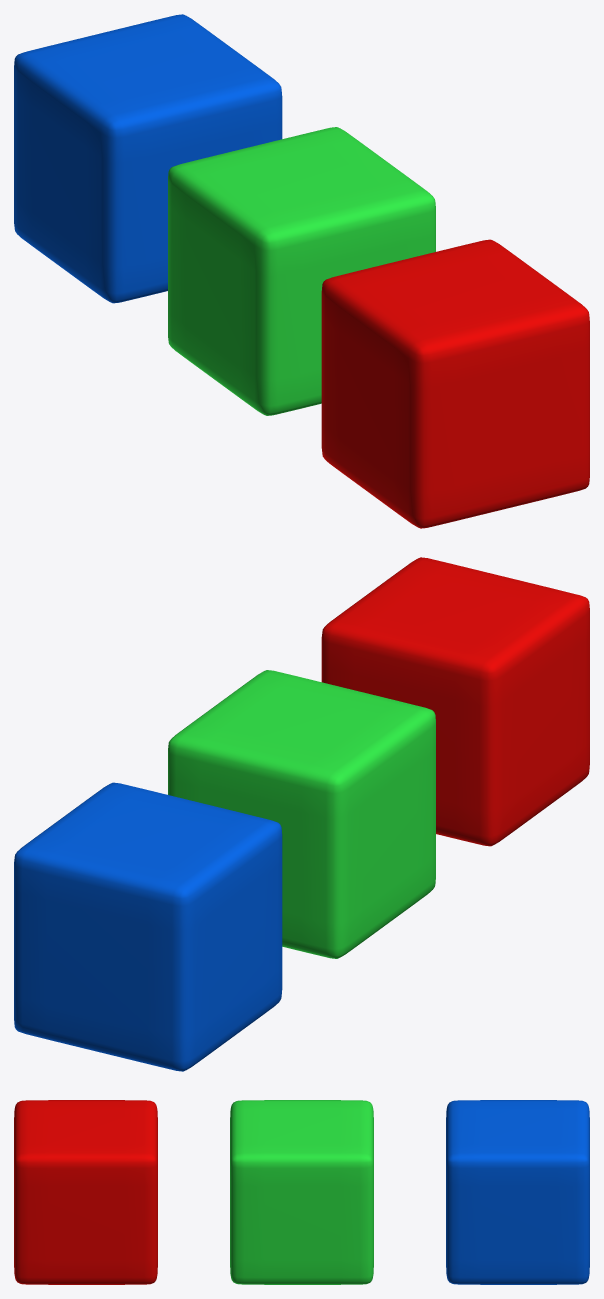
The picture shows the model from 3 angles, top to bottom: view 1: azimuth 30°, elevation 25°; view 2: azimuth 150°, elevation 25°; view 3: azimuth 270°, elevation 25°; orthographic projection. The views are drawn at different scales.
Visible parts, largest first — view 1: Cube.002, Cube.001, Cube; view 2: Cube.001, Cube.002, Cube; view 3: Cube, Cube.001, Cube.002.
Boxes of the visible parts, x1,y1,x2,y2 form: Cube.002: (321,239,589,528); Cube.001: (14,14,282,303); Cube: (168,127,435,415); Cube.001: (14,782,282,1071); Cube.002: (321,557,589,846); Cube: (168,670,435,958); Cube: (230,1100,373,1284); Cube.001: (446,1100,589,1284); Cube.002: (14,1100,157,1284).
Bounding box in the file's own units: 100 × 100 × 400.
